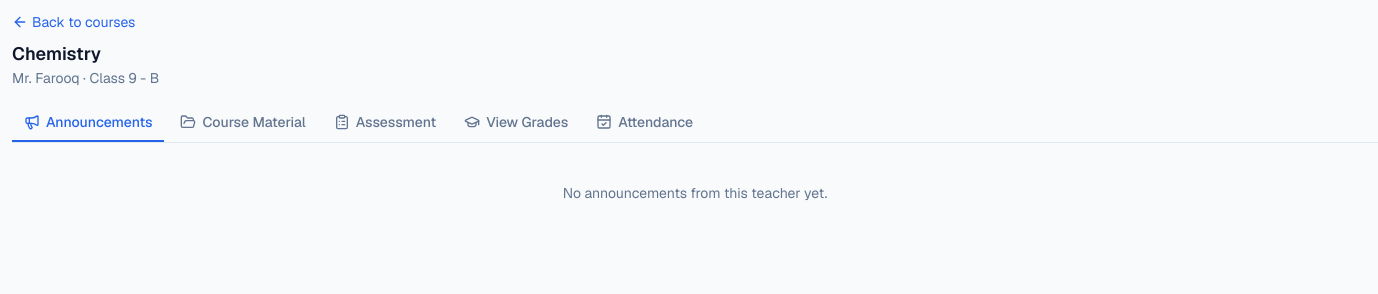
Scenario: PortalCourseDetailPage › switches to the Attendance tab and shows the student's attendance summary
This screenshot has width=1378, height=294.
Click the button "Attendance" at (645,123), box [584, 104, 705, 142]
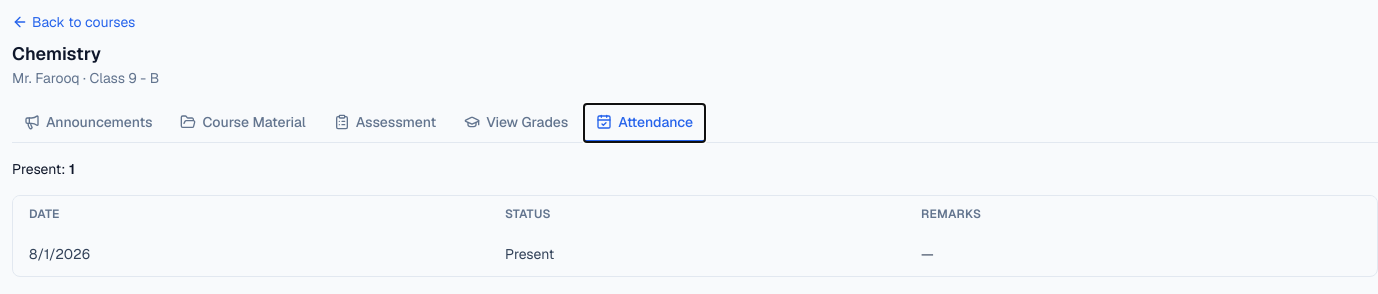
Check: the text "Present: 1" is shown, box [12, 159, 75, 179]
